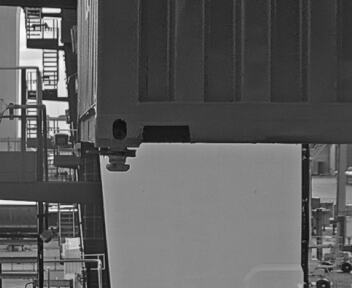twist_lock_1: (95, 140, 141, 177)
